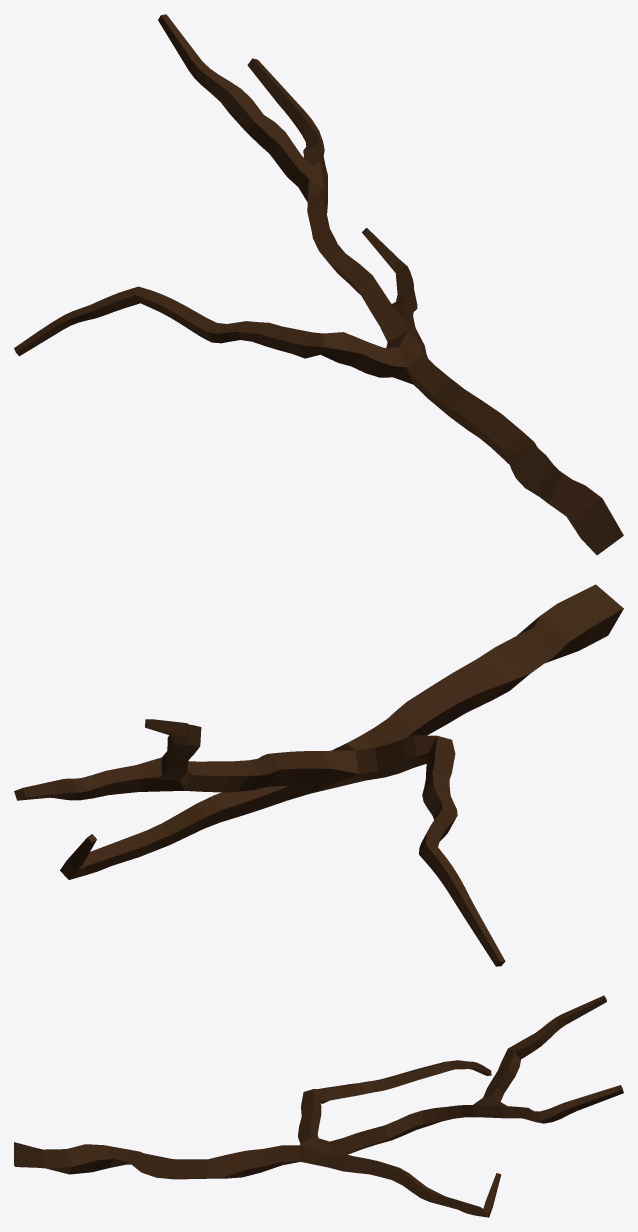
File: Branch_002.fbx
3 views of the same model, one above another, from view 1: azimuth 30°, elevation 25°; view 2: azimuth 150°, elevation 25°; view 3: azimuth 270°, elevation 25° (orthographic). The views are drawn at different scales.
Parts seen in each view (by area): view 1: branch_002; view 2: branch_002; view 3: branch_002.
Part boxes in pixels (<box>): branch_002: <box>14,14,623,555</box>; branch_002: <box>14,584,623,966</box>; branch_002: <box>14,995,623,1217</box>.
Size of the model in its own units: 134 by 77.97 by 255.
